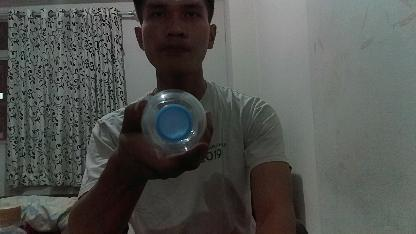Plastic Bottle: (140, 86, 210, 160)
